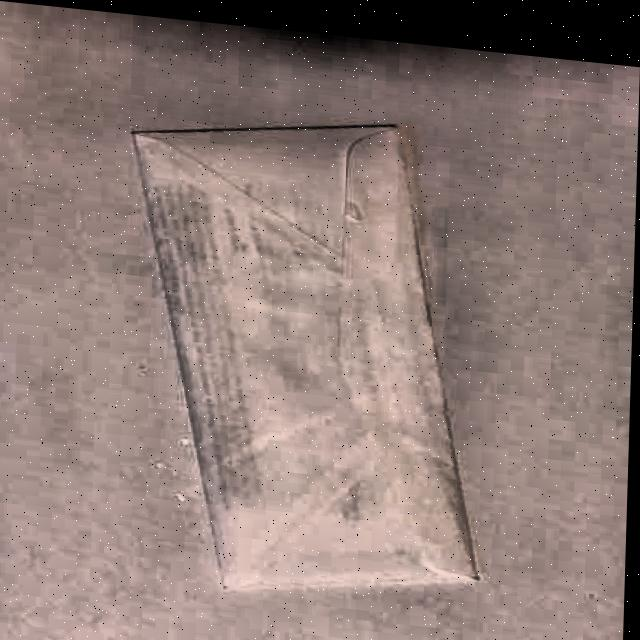paper: (115, 97, 495, 619)
